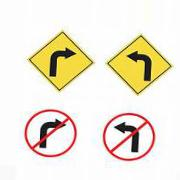left: (106, 34, 174, 96)
right: (28, 29, 94, 91)
